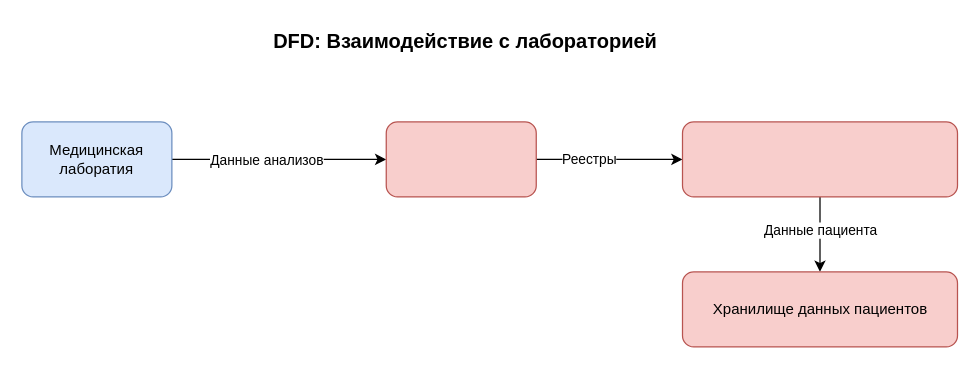
This 980x369 diagram has some shape labels left out. Each missing label, with the centre of its shape:
"Папка с реестрами" goes at point 819,159.
"Реестры анализов Excel" goes at point 460,159.
